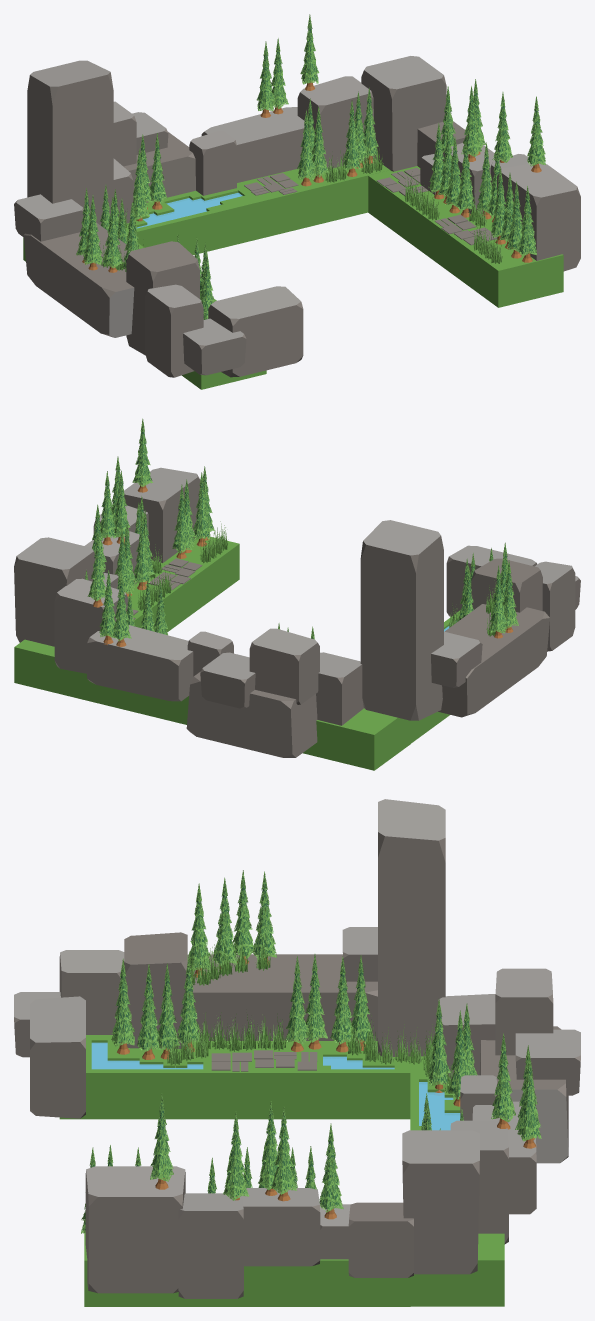
The model's file is BORDER.fbx.
3 views of the same model, one above another, from view 1: azimuth 30°, elevation 25°; view 2: azimuth 150°, elevation 25°; view 3: azimuth 270°, elevation 25° (orthographic). The views are drawn at different scales.
Visible parts, largest first — view 1: Cube.054; view 2: Cube.054; view 3: Cube.054.
Boxes of the visible parts, box(x1,y1,x2,y2) form: Cube.054: box(14, 14, 580, 389); Cube.054: box(14, 418, 580, 770); Cube.054: box(14, 799, 580, 1306).
Size of the model in its own units: 23882 by 11048 by 21182.
